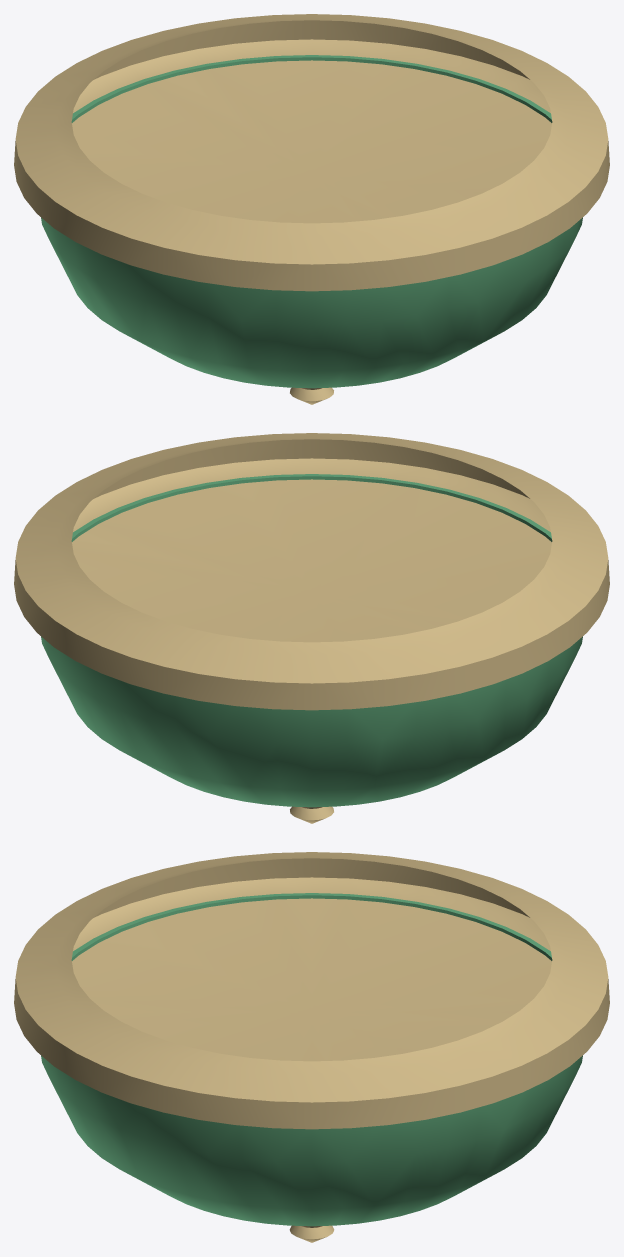
File: lp_ceiling_dome.glb
3 views of the same model, one above another, from view 1: azimuth 30°, elevation 25°; view 2: azimuth 150°, elevation 25°; view 3: azimuth 270°, elevation 25° (orthographic).
Parts seen in each view (by area): view 1: lp_ceiling_dome; view 2: lp_ceiling_dome; view 3: lp_ceiling_dome.
Boxes of the visible parts, x1,y1,x2,y2 form: lp_ceiling_dome: [14, 14, 609, 404]; lp_ceiling_dome: [14, 433, 609, 823]; lp_ceiling_dome: [14, 852, 609, 1242].
Size of the model in its own units: 0.372 by 0.195 by 0.372.
